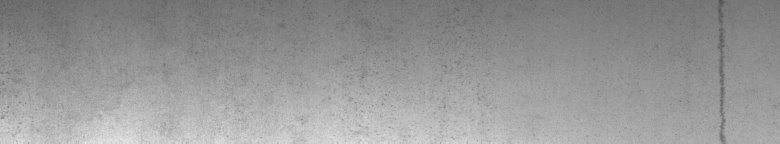hd: (715, 4, 728, 136)
